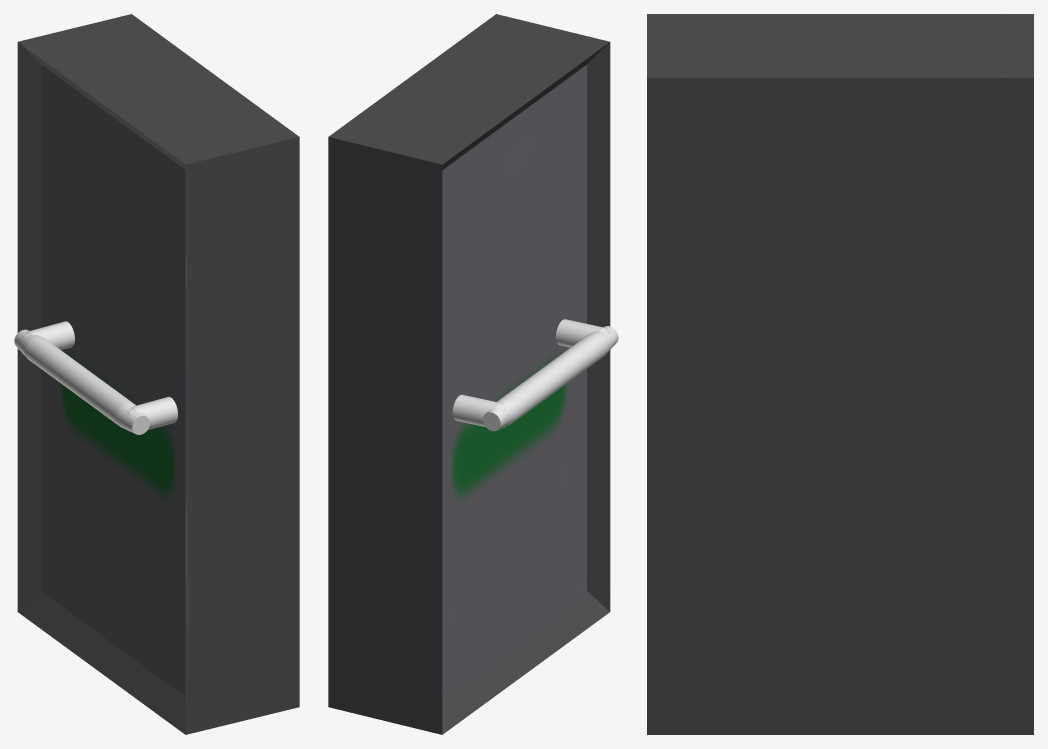
Rendered from Fire Escape.fbx.
The picture shows the model from 3 angles, left to right: view 1: azimuth 30°, elevation 25°; view 2: azimuth 150°, elevation 25°; view 3: azimuth 270°, elevation 25°; orthographic projection. The views are drawn at different scales.
Visible parts, largest first — view 1: Cube, Cylinder, Cylinder.002, Cylinder.001; view 2: Cube, Cylinder, Cylinder.001, Cylinder.002; view 3: Cube.
Boxes of the visible parts, x1,y1,x2,y2 form: Cube: (17, 14, 299, 734); Cylinder: (14, 329, 149, 434); Cylinder.002: (127, 396, 177, 431); Cylinder.001: (22, 321, 74, 349); Cube: (328, 14, 610, 734); Cylinder: (483, 326, 618, 431); Cylinder.001: (452, 394, 505, 427); Cylinder.002: (556, 319, 610, 347); Cube: (647, 14, 1033, 734).
Bounding box in the file's own units: 46.57 × 172 × 91.79.
